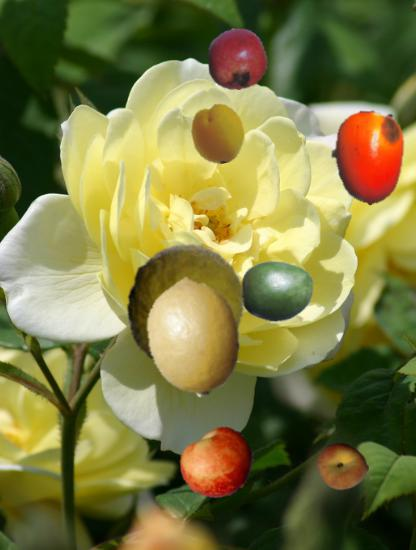Guava: (120, 242, 250, 372)
Kaki: (320, 110, 415, 205)
Lemon: (133, 277, 254, 398)
Mango: (239, 254, 315, 330)
Nectarine: (181, 426, 256, 501)
Peach: (188, 104, 249, 165), (317, 440, 369, 492)
Pomegranate: (206, 28, 269, 91)
